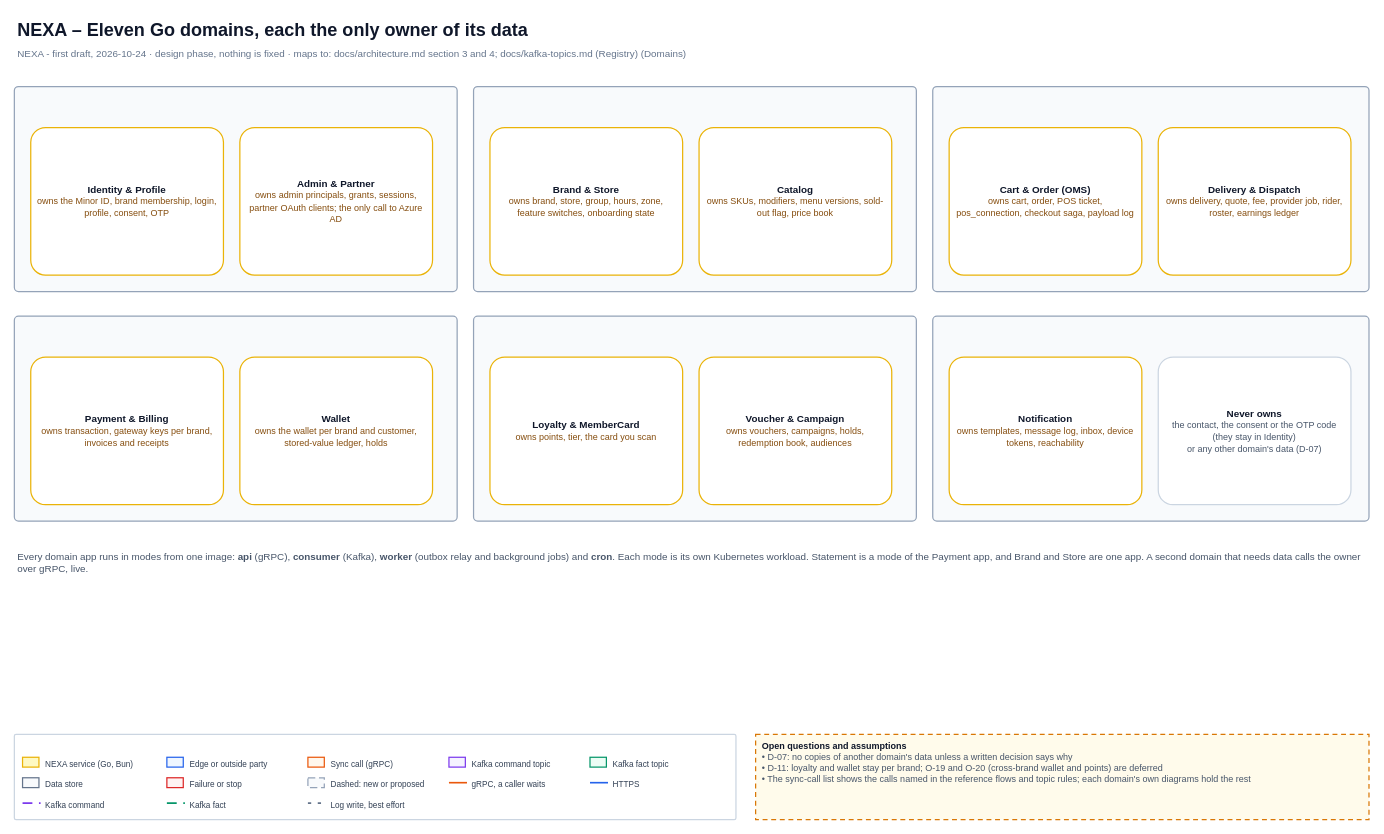
Image size: 1384x834. Some labels were removed from this diagram. The box of each missing label's shape, as (x1, y1, x2, y2) in pixels:
Brands, stores and menus: (473, 86, 917, 292)
Customer value: (473, 315, 917, 521)
Legend: (13, 733, 736, 820)
Messaging: (932, 315, 1369, 521)
Money: (13, 315, 457, 521)
Order and delivery: (932, 86, 1369, 292)
People and access: (13, 86, 457, 292)
